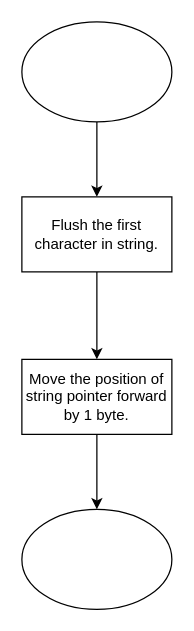
Some shapes in this 194 by 631 pixel diagram are drawn without their labels. Each missing label, with the box of its shape:
End: (21, 508, 172, 609)
Start: (21, 21, 172, 122)
